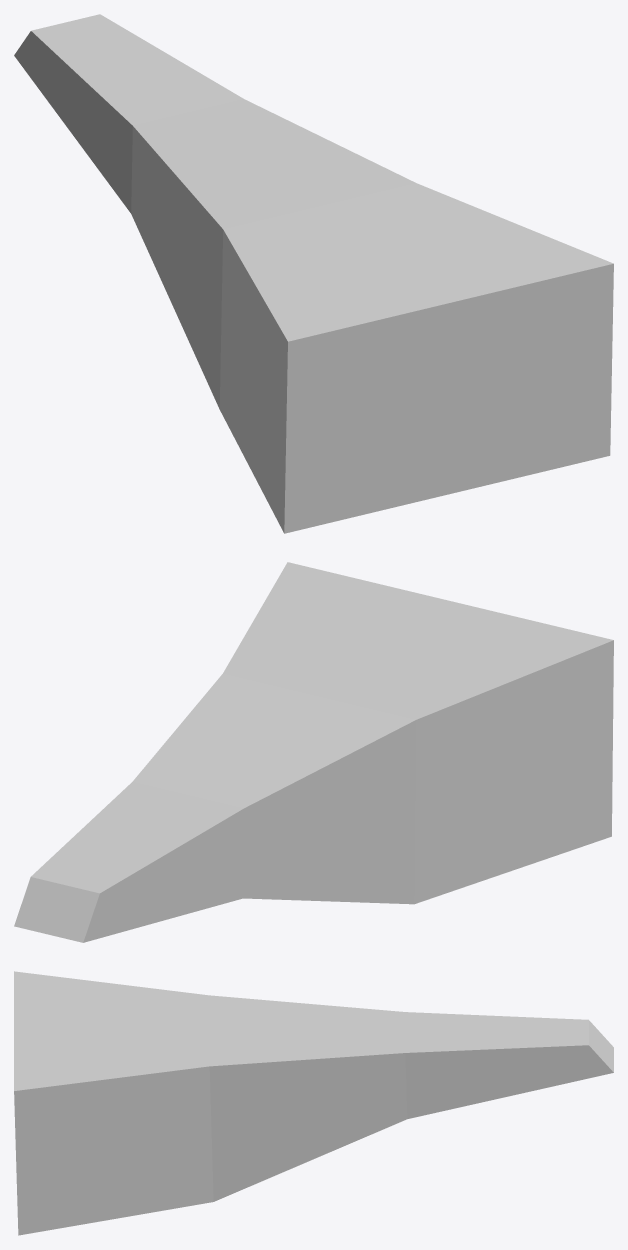
File: pruva.glb
The picture shows the model from 3 angles, top to bottom: view 1: azimuth 30°, elevation 25°; view 2: azimuth 150°, elevation 25°; view 3: azimuth 270°, elevation 25°; orthographic projection. The views are drawn at different scales.
Visible parts, largest first — view 1: Pruva; view 2: Pruva; view 3: Pruva.
Boxes of the visible parts, bbox=[...] form: Pruva: bbox=[14, 14, 613, 533]; Pruva: bbox=[14, 562, 613, 942]; Pruva: bbox=[14, 971, 613, 1235].
Bounding box in the file's own units: 0.1667 × 0.0954 × 0.3552.
Materials: 1 (1 with a texture image).
